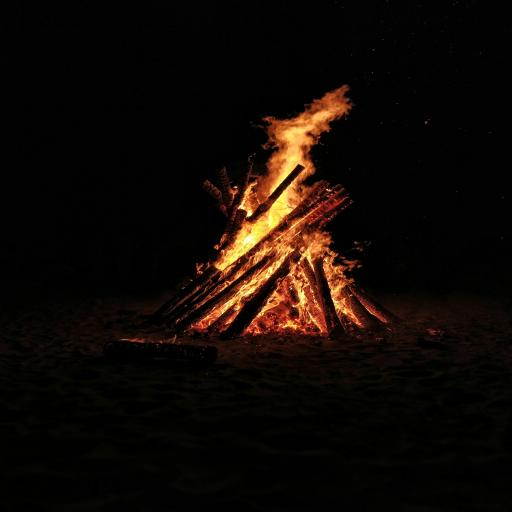campfire: (90, 48, 461, 392)
